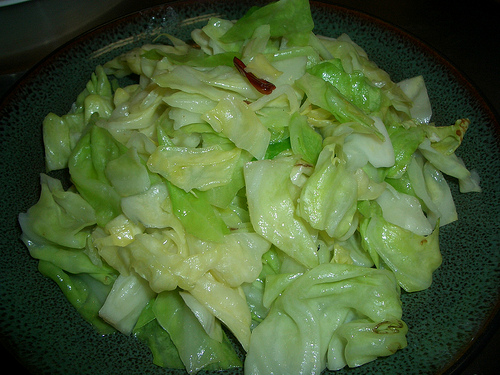cabbage: (15, 0, 482, 373)
